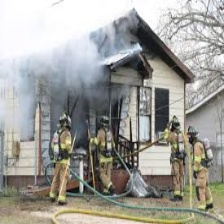smoke: (8, 10, 135, 129)
